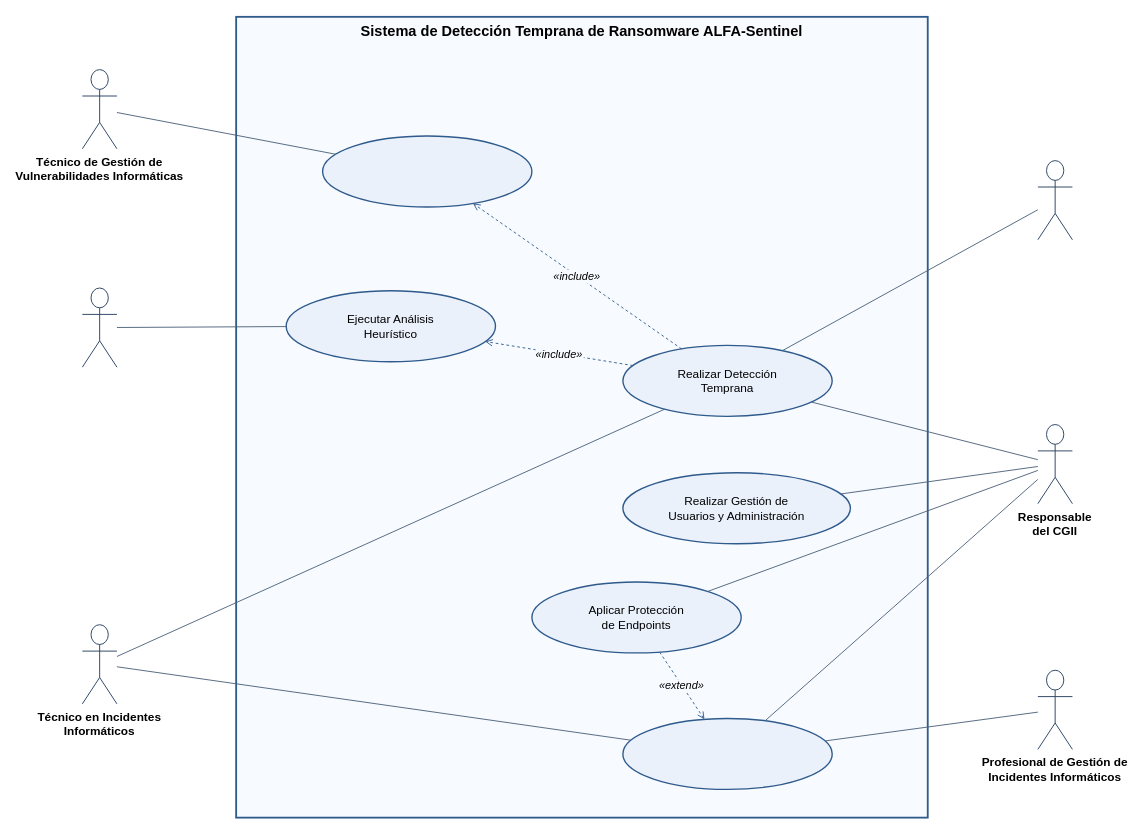
Image size: 1144x834. Some labels were removed from this diagram. Each missing label, with the box of its shape:
Coordinar Monitoreo y Respuesta: (622, 717, 832, 790)
Gestionar Archivos Señuelo: (322, 135, 532, 207)
Profesional en Seguridad de la Información: (81, 287, 117, 367)
«sistema externo» Sistema Operativo del Endpoint: (1037, 160, 1072, 240)
